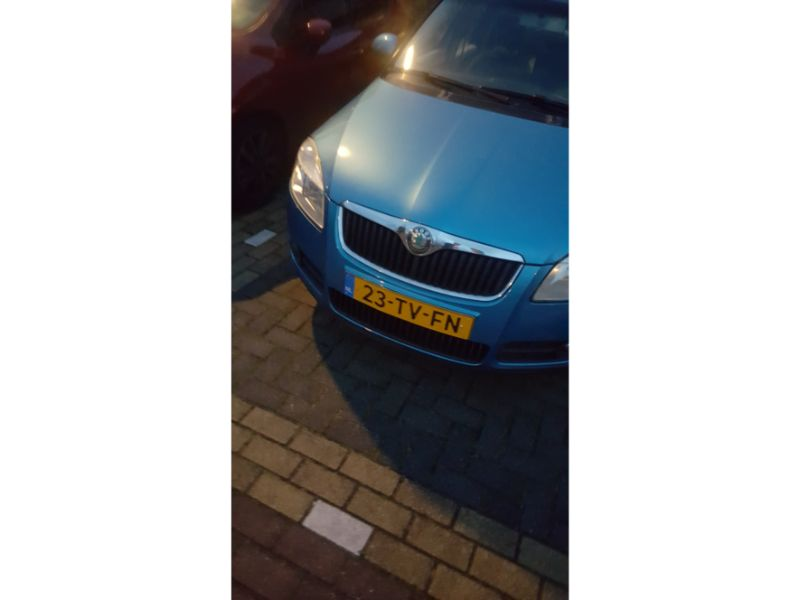kenteken: (340, 274, 477, 351)
